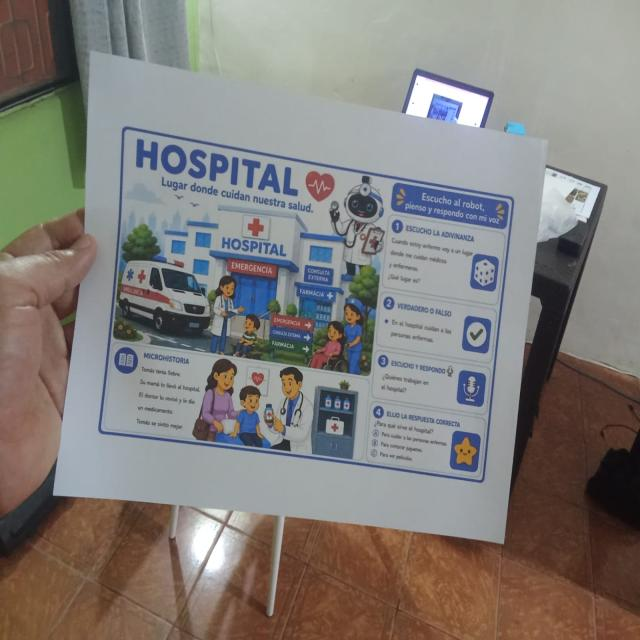hospital: (95, 121, 518, 487)
